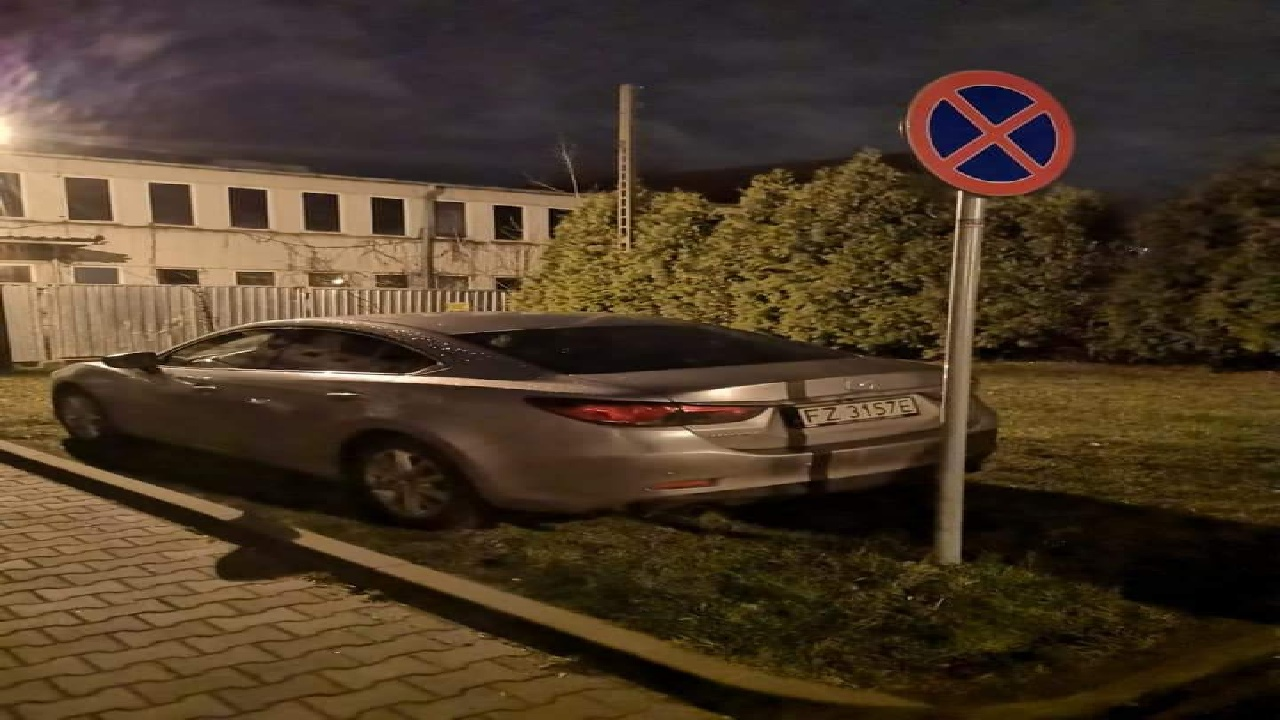B36: (906, 69, 1075, 197)
